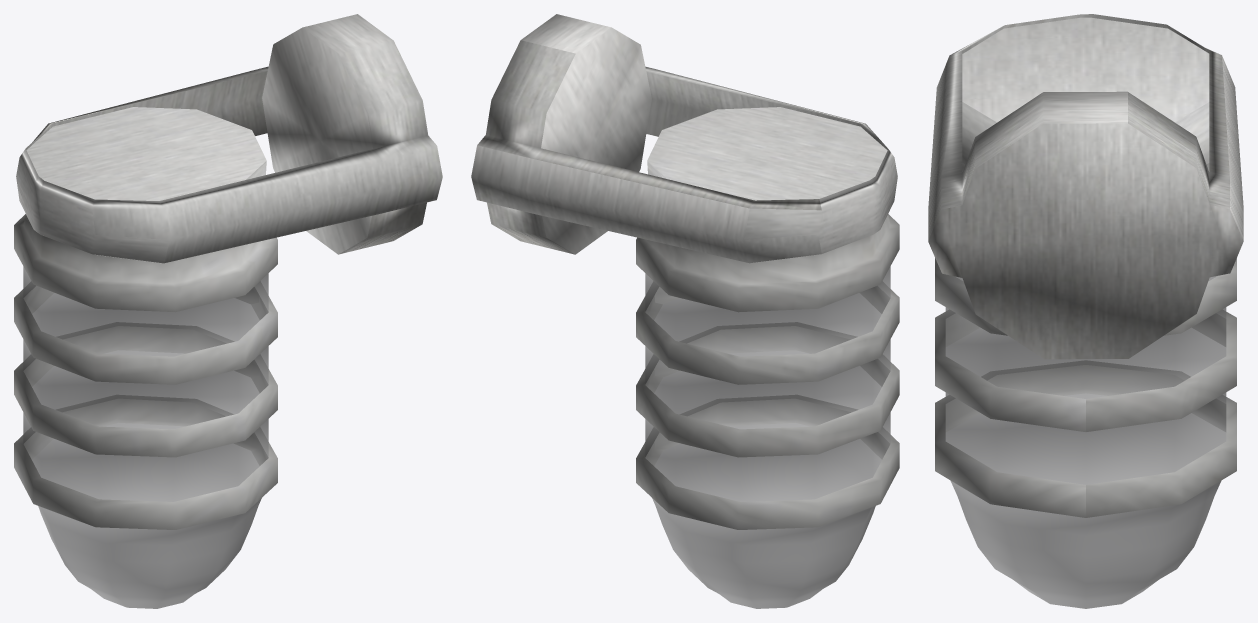
Rendered from lumiere.fbx.
3 renders of one model, left to right at view 1: azimuth 30°, elevation 25°; view 2: azimuth 150°, elevation 25°; view 3: azimuth 270°, elevation 25°, orthographic. The views are drawn at different scales.
Parts seen in each view (by area): view 1: pCylinder2, pCylinder1; view 2: pCylinder2, pCylinder1; view 3: pCylinder2, pCylinder1.
Boxes of the visible parts, x1,y1,x2,y2 form: pCylinder2: [14, 107, 277, 608]; pCylinder1: [16, 14, 442, 263]; pCylinder2: [636, 107, 899, 608]; pCylinder1: [471, 14, 897, 263]; pCylinder2: [935, 17, 1236, 608]; pCylinder1: [928, 14, 1243, 359].
Bounding box in the file's own units: 3.39 × 4.9 × 2.31.
Materials: 2 (1 with a texture image).
